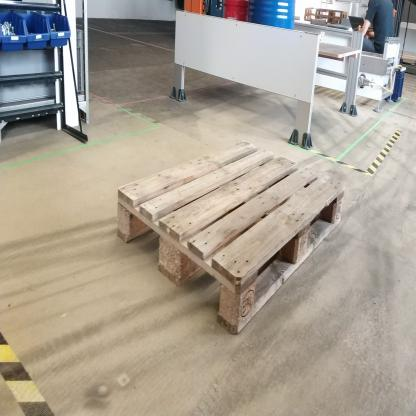BoxFace: (114, 133, 346, 351)
